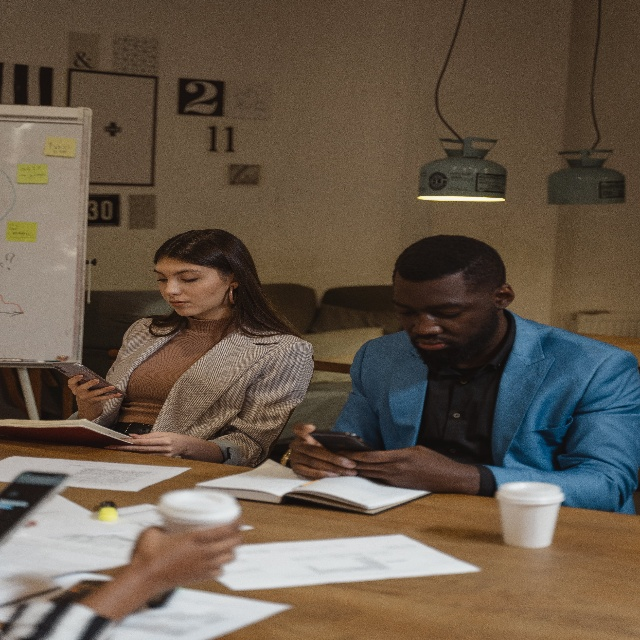Sin_guantes: (133, 518, 242, 594), (337, 436, 451, 495), (288, 421, 356, 481), (104, 430, 182, 457), (66, 371, 122, 403)
